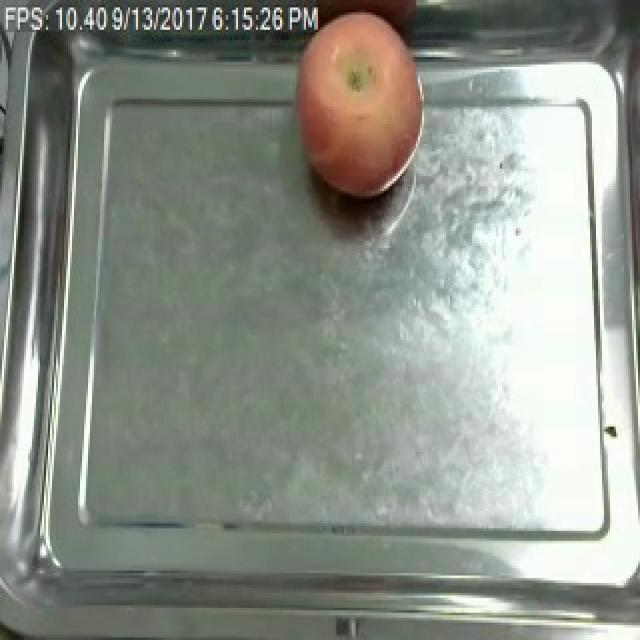apple: (295, 11, 424, 198)
